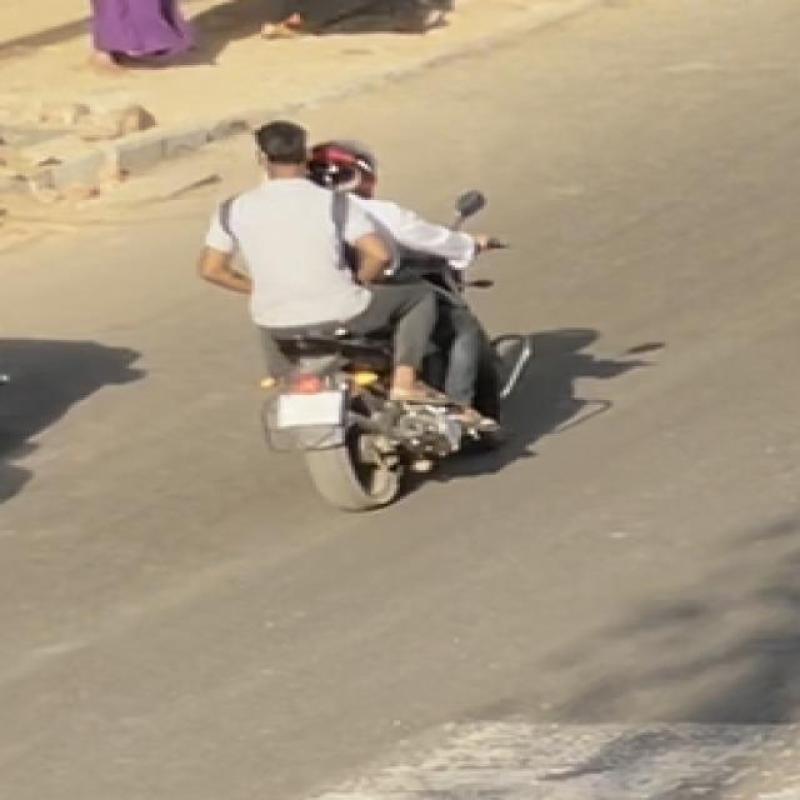nohelmet: (248, 120, 342, 194)
